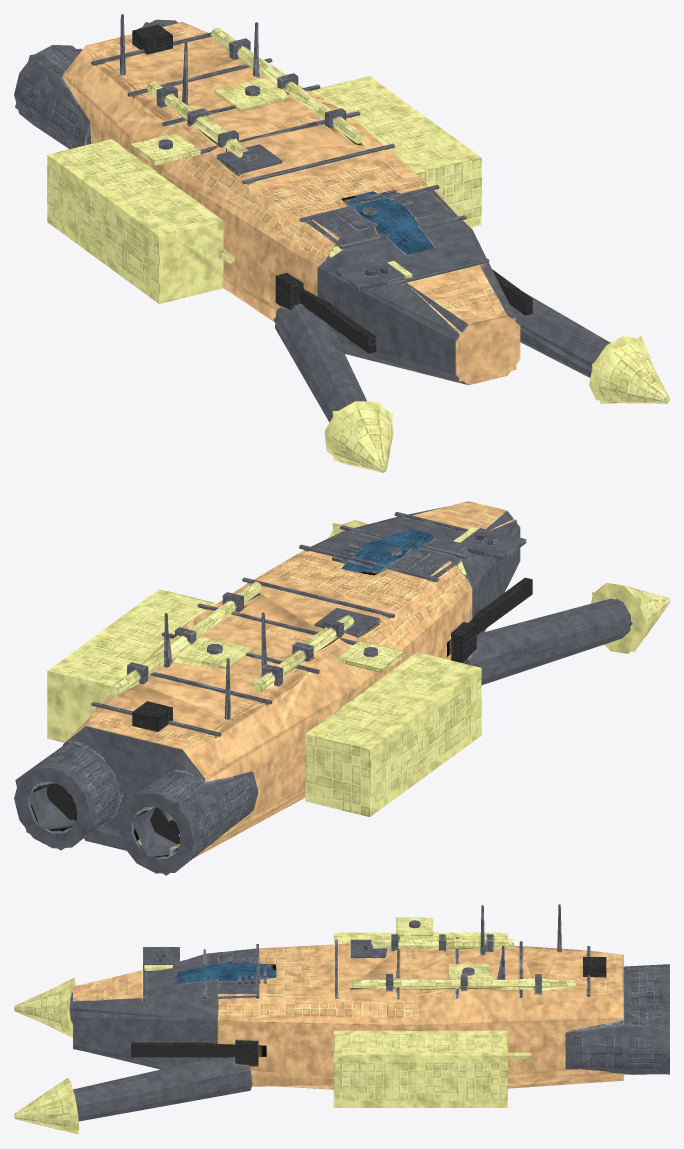
The model's file is sd_npc_mining.glb.
The picture shows the model from 3 angles, top to bottom: view 1: azimuth 30°, elevation 25°; view 2: azimuth 150°, elevation 25°; view 3: azimuth 270°, elevation 25°; orthographic projection. The views are drawn at different scales.
Parts seen in each view (by area): view 1: LOD0_body, LOD1_body; view 2: LOD0_body, LOD1_body; view 3: LOD0_body, LOD1_body.
Part boxes in pixels (x1,y1,x2,y2): LOD0_body: (14,14,669,472); LOD1_body: (15,22,667,469); LOD0_body: (14,501,669,873); LOD1_body: (15,507,656,875); LOD0_body: (14,904,669,1134); LOD1_body: (14,932,669,1133).
Bounding box in the file's own units: 0.4421 × 0.2741 × 1.
Materials: 1 (1 with a texture image).
